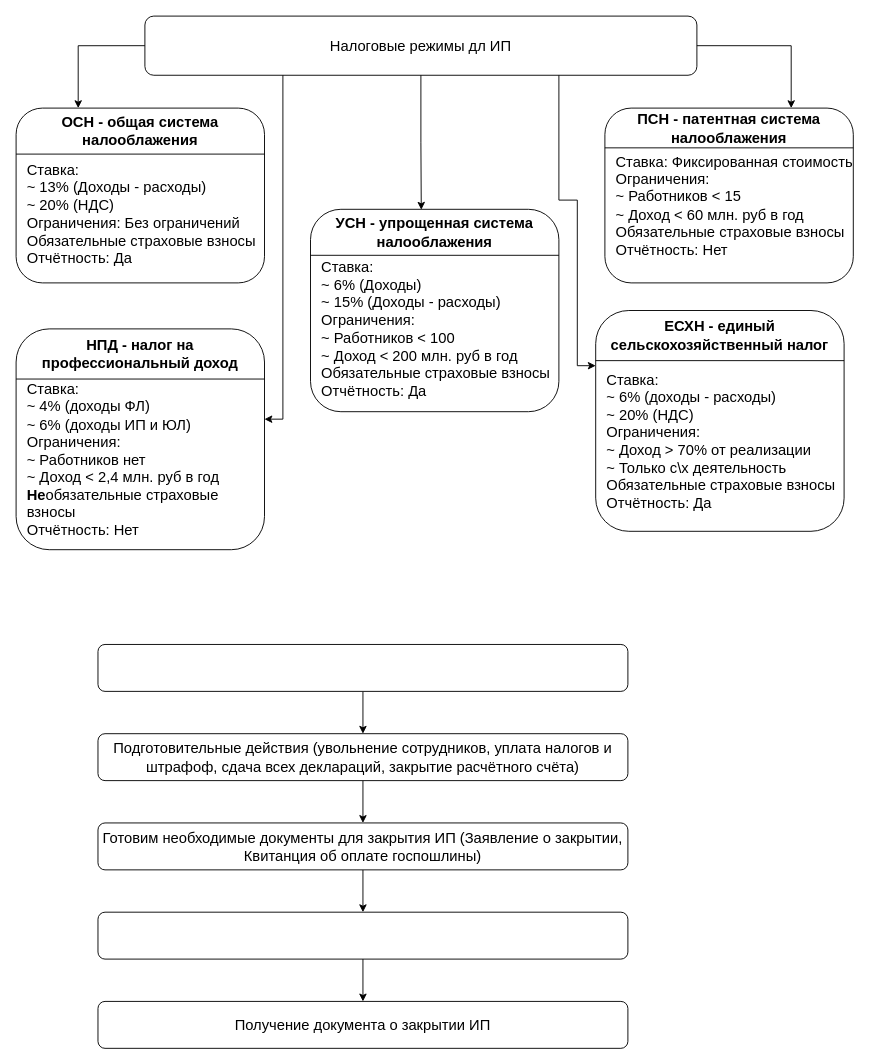
Image size: 870x1064. Some labels were removed from this diagram. The shapes that lost their labels are listed below. From the top down, each one's centre as x and y in pixels, then its label:
pixel 362 667: Выбираем способ закрытия ИП (Самостоятельное \ Платное)
pixel 362 935: Подача документов в налоговую инспекцию
